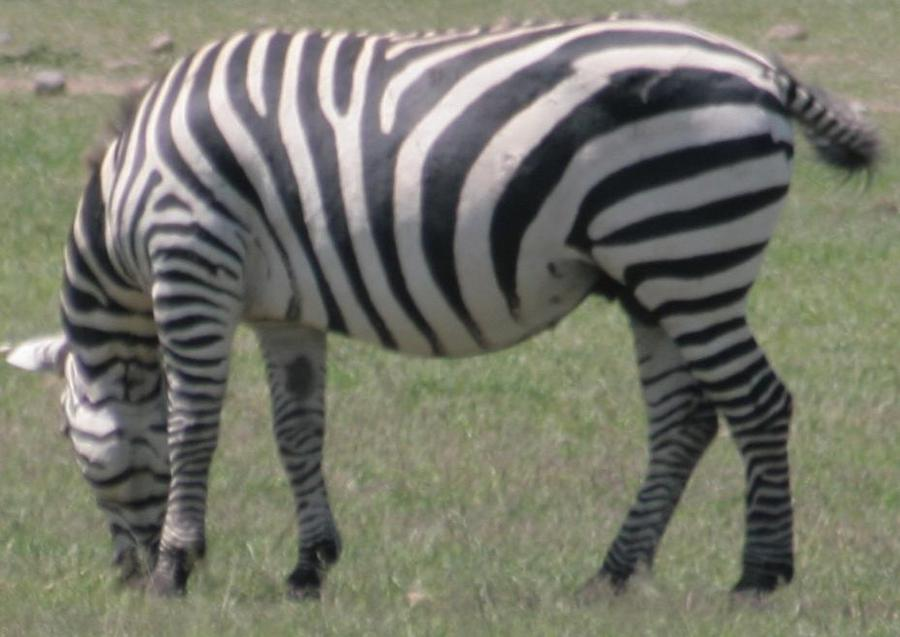zebra_plains: (71, 47, 853, 501)
